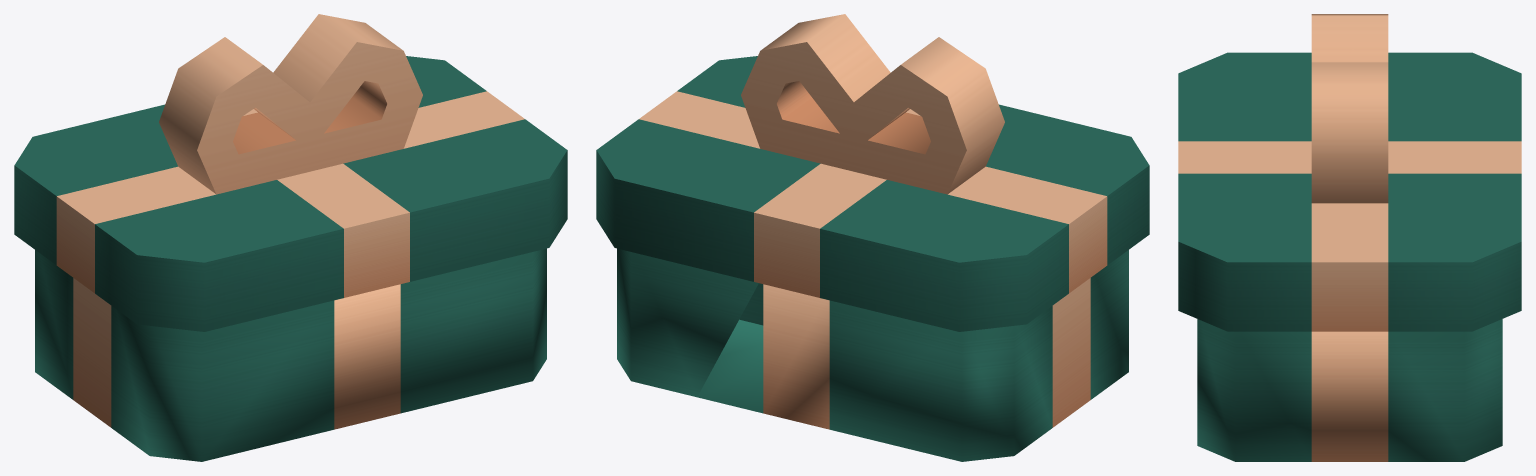
The model's file is present_green_rectangle.glb.
3 views of the same model, side by side, from view 1: azimuth 30°, elevation 25°; view 2: azimuth 150°, elevation 25°; view 3: azimuth 270°, elevation 25° (orthographic).
Visible parts, largest first — view 1: present-b-rectangle; view 2: present-b-rectangle; view 3: present-b-rectangle.
Boxes of the visible parts, box(x1,y1,x2,y2) form: present-b-rectangle: box(14, 14, 567, 461); present-b-rectangle: box(596, 14, 1149, 461); present-b-rectangle: box(1178, 14, 1521, 461).
Bounding box in the file's own units: 0.65 × 0.4707 × 0.45.
1 material, 1 textured.
